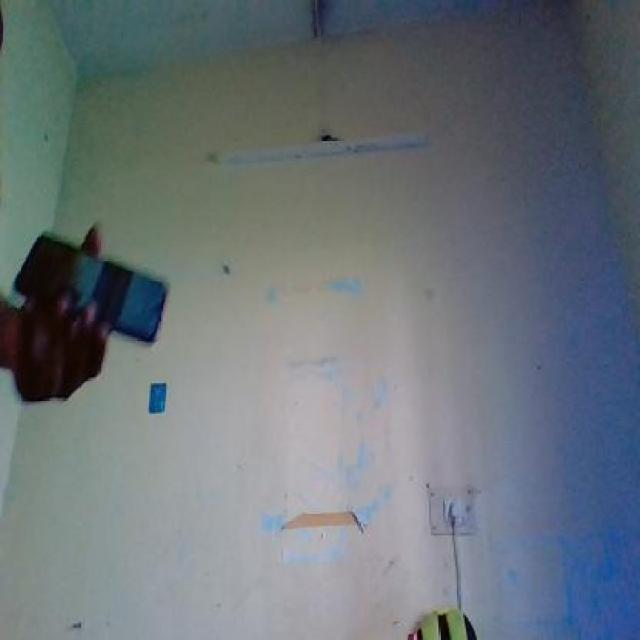Phone: (15, 229, 170, 347)
